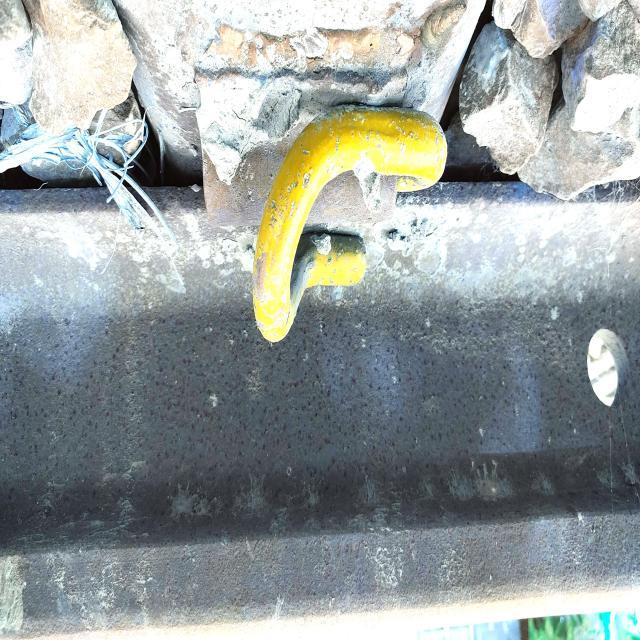Good Fasteners: (182, 54, 458, 375)
